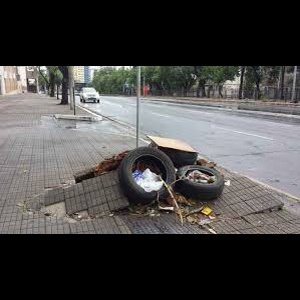tire: (119, 146, 176, 205), (176, 164, 224, 202)
